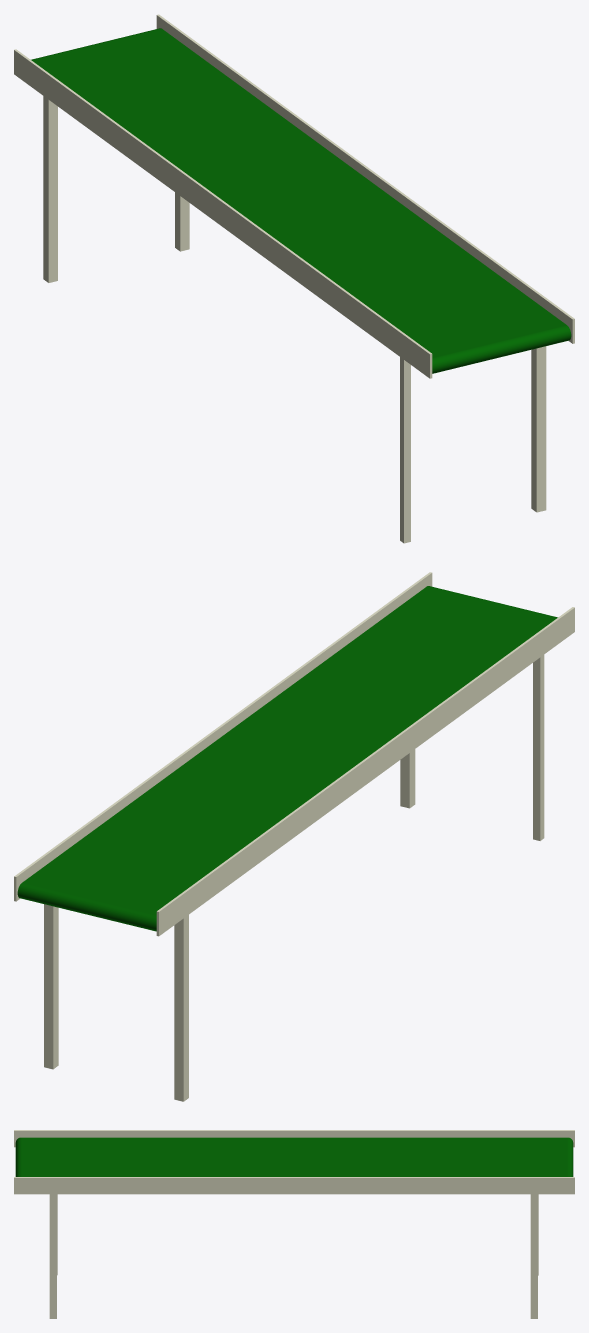
File: workbache.dae
3 views of the same model, one above another, from view 1: azimuth 30°, elevation 25°; view 2: azimuth 150°, elevation 25°; view 3: azimuth 270°, elevation 25° (orthographic). The views are drawn at different scales.
Visible parts, largest first — view 1: Band_1, Zijkant (×2), Poot_1 (×4); view 2: Band_1, Zijkant (×2), Poot_1 (×4); view 3: Band_1, Zijkant (×2), Poot_1 (×2).
Boxes of the visible parts, <box> form: Band_1: <box>31,28,571,373</box>; Zijkant (×2): <box>14,14,574,378</box>; Poot_1 (×4): <box>43,96,546,543</box>; Band_1: <box>17,586,557,931</box>; Zijkant (×2): <box>14,572,574,936</box>; Poot_1 (×4): <box>44,655,544,1101</box>; Band_1: <box>15,1137,573,1176</box>; Zijkant (×2): <box>14,1130,574,1194</box>; Poot_1 (×2): <box>49,1194,537,1318</box>.
Bounding box in the file's own units: 24.41 × 121 × 33.86.
